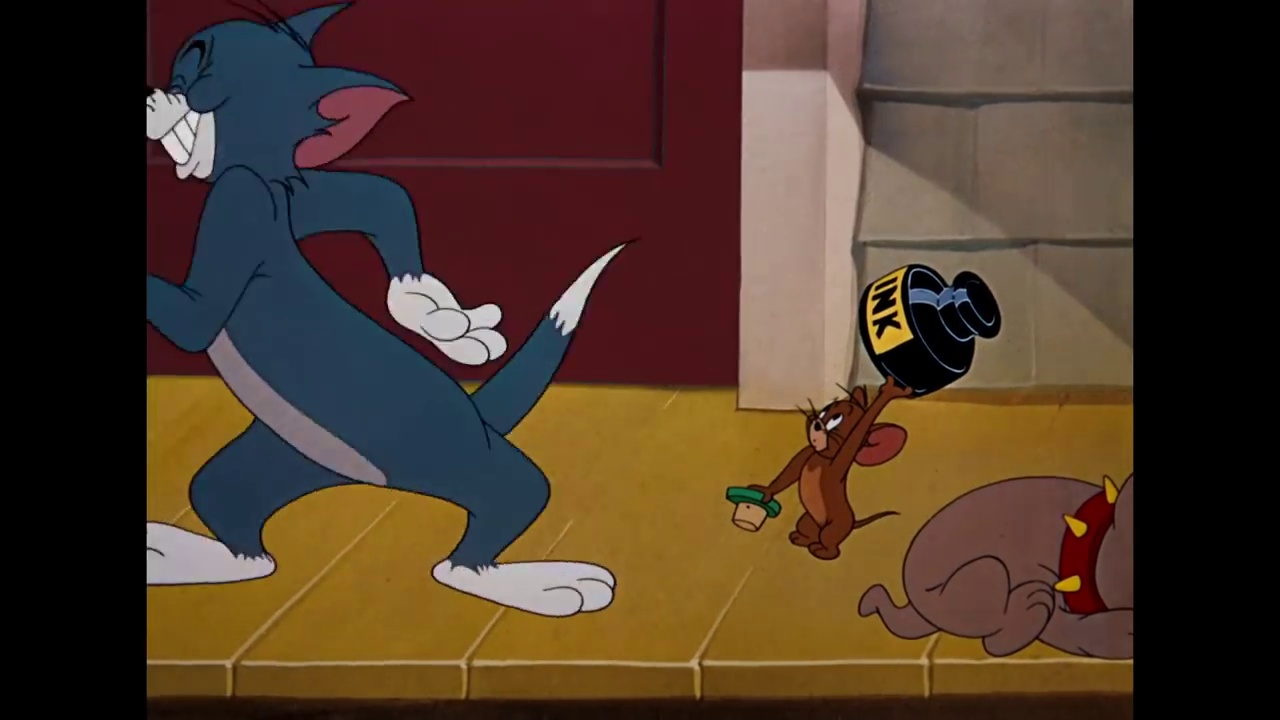tom: (147, 1, 412, 198)
